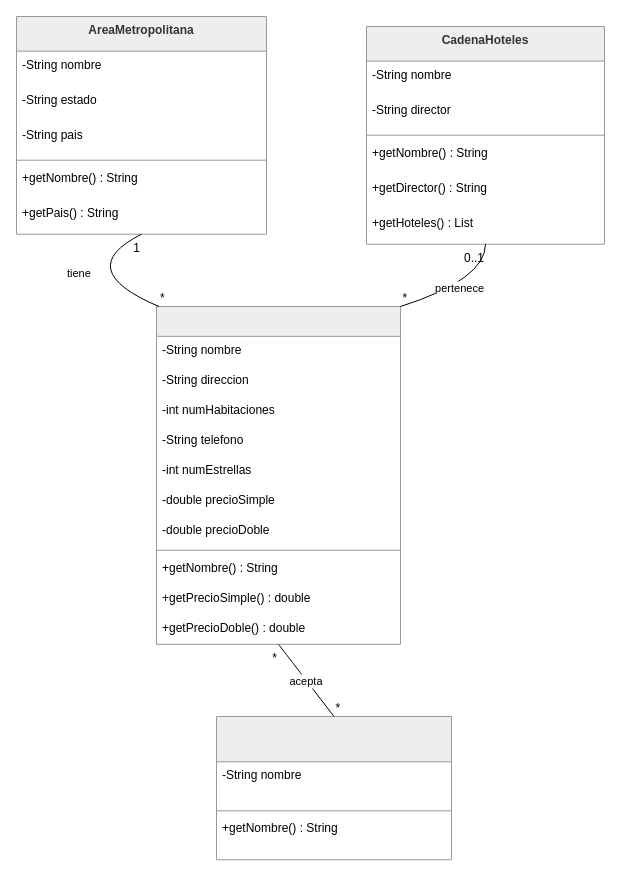
Image size: 621x876. Some labels were removed from this diagram. The box of each missing label's shape, as (x1, y1, x2, y2) in pixels:
Hotel: (156, 306, 400, 644)
TarjetaCredito: (216, 716, 452, 860)
